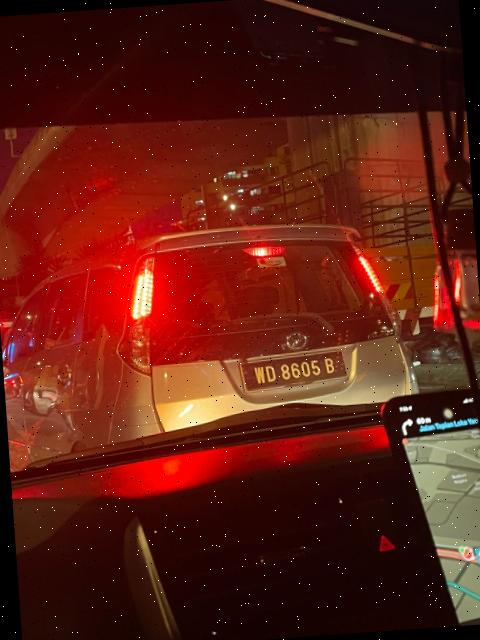License_Plate: (244, 354, 348, 392)
car: (1, 215, 445, 486)
